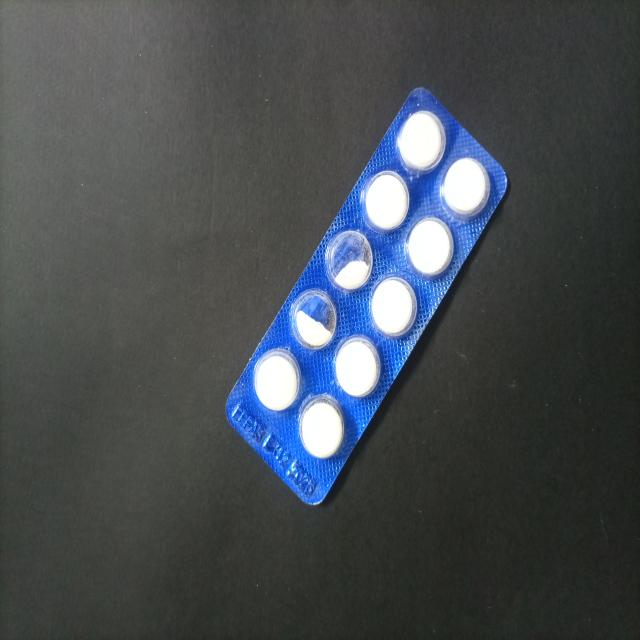defect: (290, 288, 338, 353), (326, 228, 375, 291)
